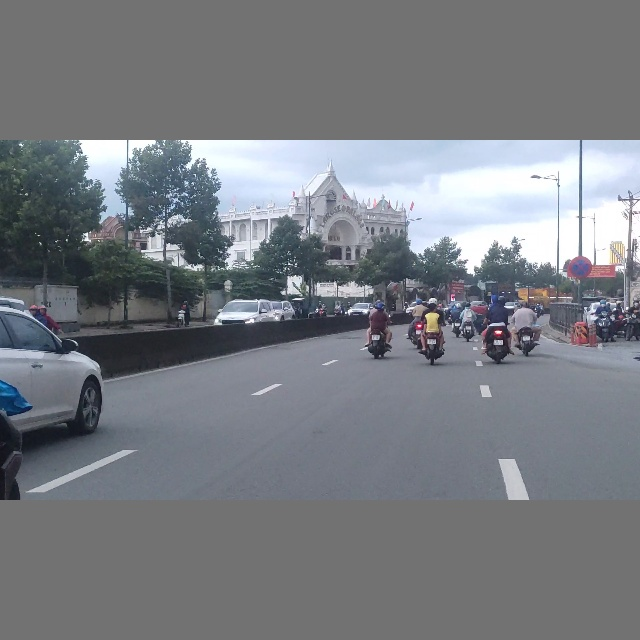P.130: (570, 256, 592, 279)
